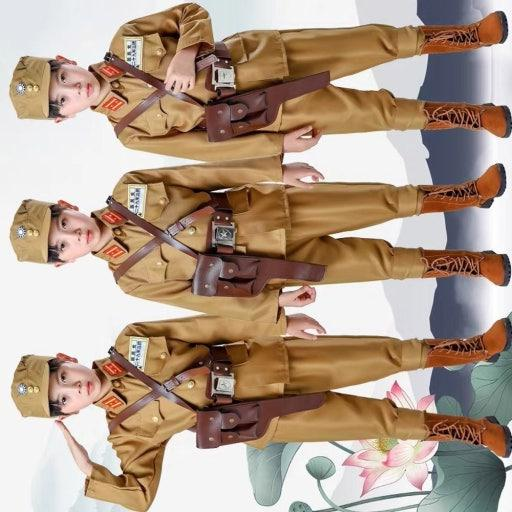north army: (7, 4, 512, 493)
